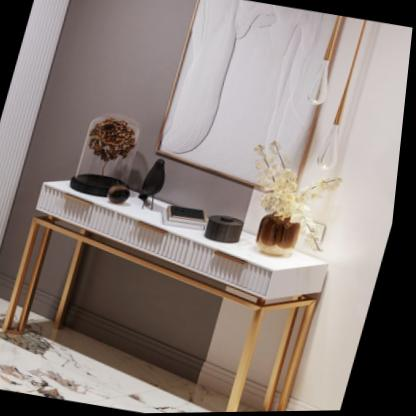Ceramic floor: (0, 297, 217, 414)
